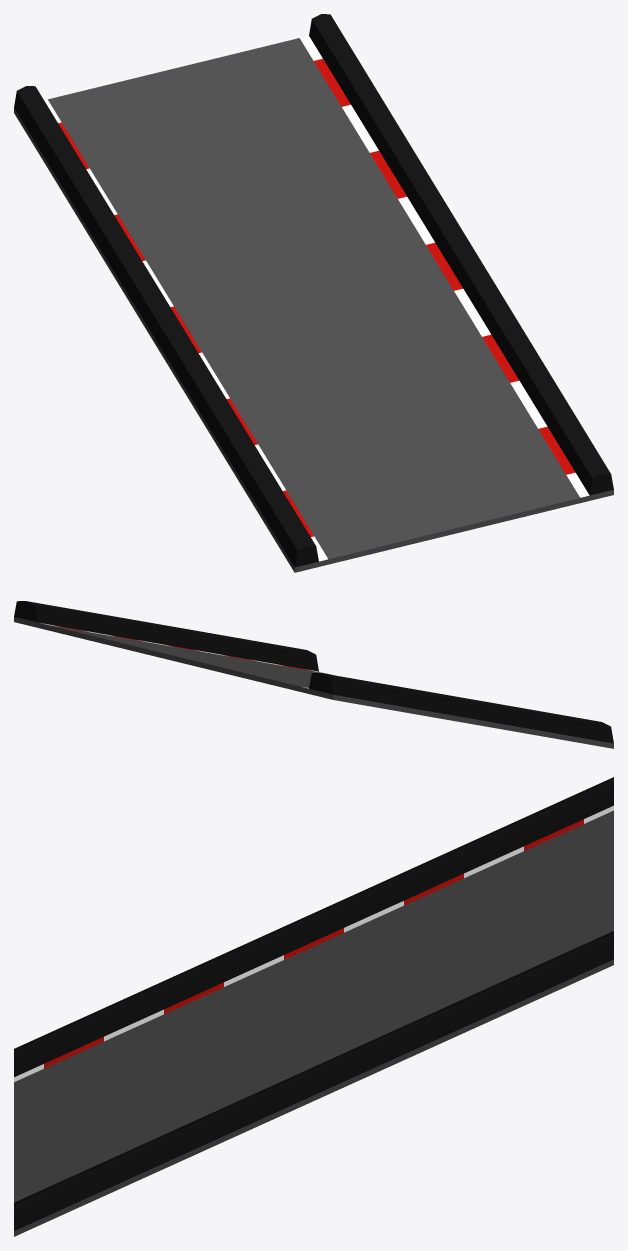
File: slope.obj
3 views of the same model, one above another, from view 1: azimuth 30°, elevation 25°; view 2: azimuth 150°, elevation 25°; view 3: azimuth 270°, elevation 25° (orthographic). The views are drawn at different scales.
Visible parts, largest first — view 1: Slope_Plane.010; view 2: Slope_Plane.010; view 3: Slope_Plane.010.
Part boxes in pixels (x1=…): Slope_Plane.010: x1=14, y1=14, x2=613, y2=572; Slope_Plane.010: x1=14, y1=601, x2=613, y2=748; Slope_Plane.010: x1=14, y1=777, x2=613, y2=1236.
Size of the model in its own units: 13.13 by 10.94 by 20.
